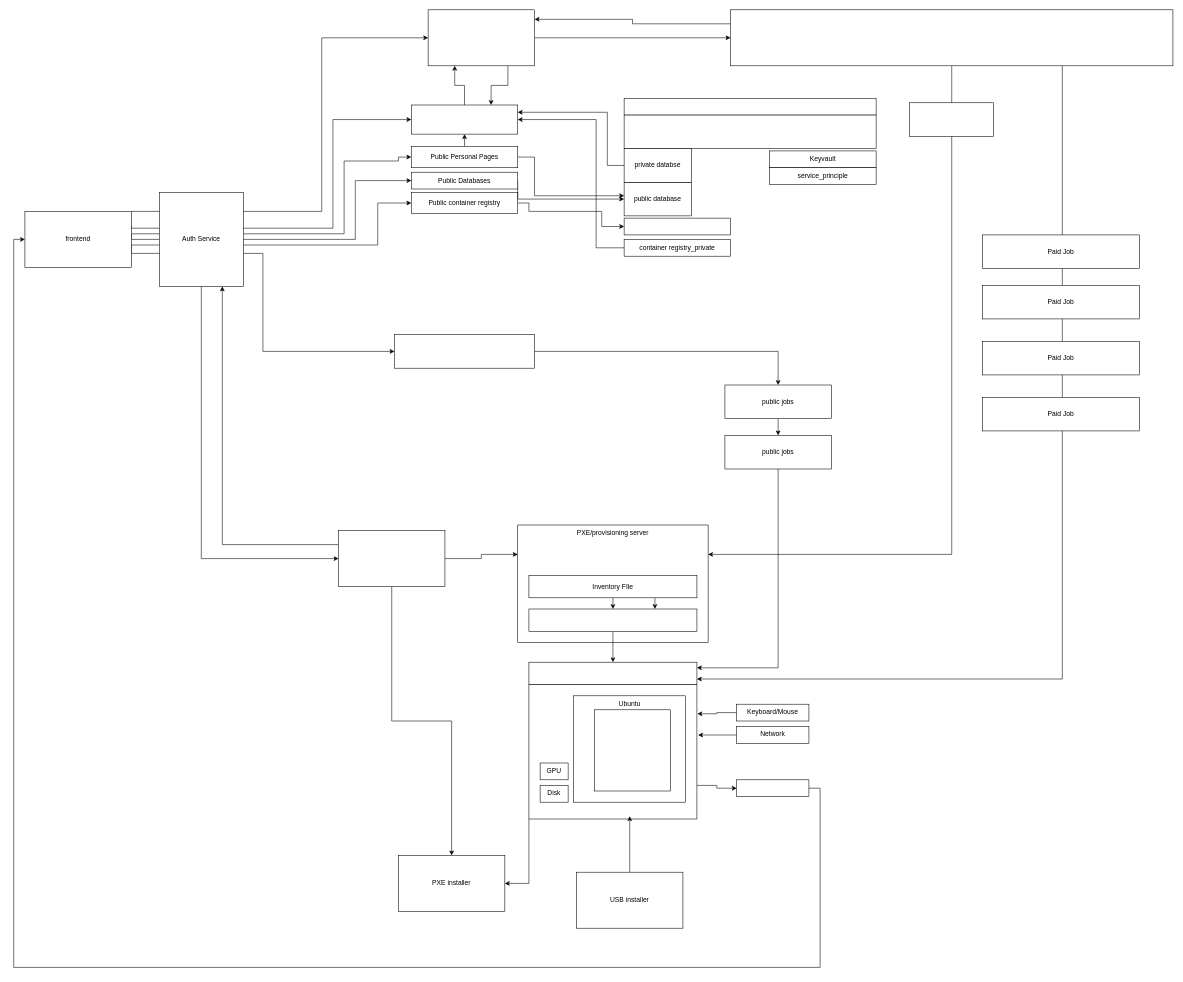
The diagram is 1183 pixels wide and 982 high, and some of its shapes have lost their labels. Each missing label, with the centre of its shape:
"Ansible" belongs at point (612, 619).
"container registry_public" belongs at point (677, 226).
"enforced config" belongs at point (951, 119).
"K3s" belongs at point (632, 750).
"Monitor/Xterm" belongs at point (772, 788).
"Paid Control PLane" belongs at point (951, 37).
"Public Control Planes" belongs at point (464, 351).
"public ledger" belongs at point (481, 37).
"public personal shops" belongs at point (464, 119).
"remote user Node" belongs at point (612, 673).
"resource group" belongs at point (750, 132).
"Terraform" belongs at point (750, 106).
"User DB" belongs at point (391, 558).
